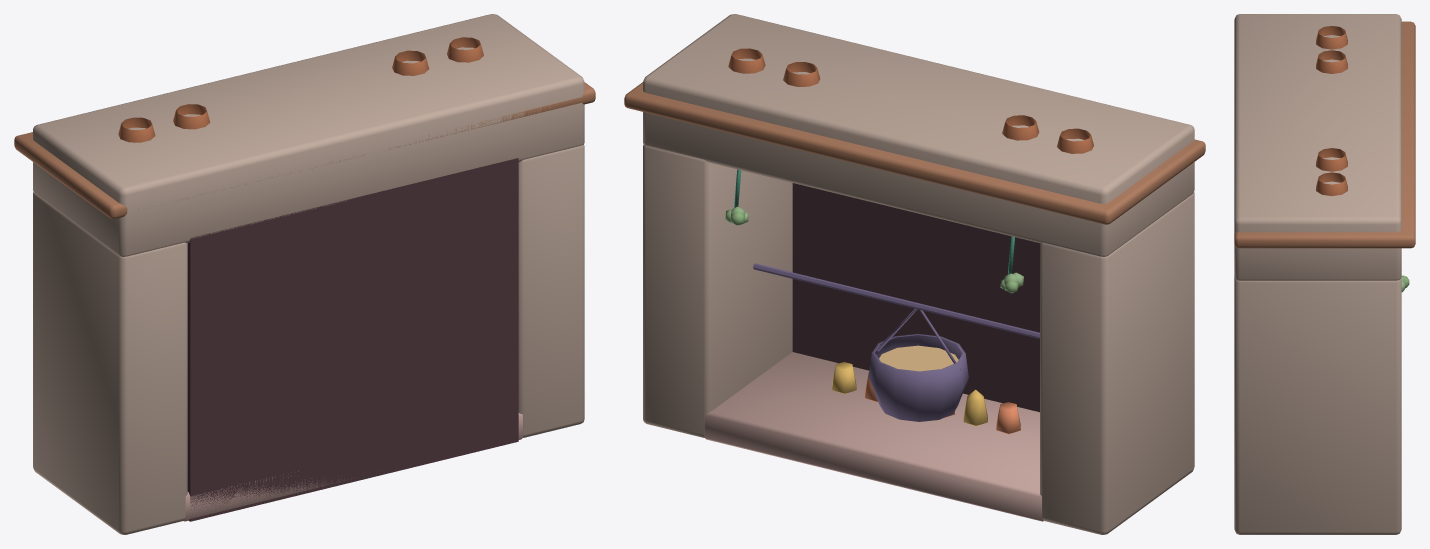
Rendered from hearth_kitchen.glb.
The picture shows the model from 3 angles, left to right: view 1: azimuth 30°, elevation 25°; view 2: azimuth 150°, elevation 25°; view 3: azimuth 270°, elevation 25°; orthographic projection. The views are drawn at different scales.
Visible parts, largest first — view 1: hearth_kitchen; view 2: hearth_kitchen; view 3: hearth_kitchen.
Part boxes in pixels (x1=…): hearth_kitchen: x1=14, y1=14, x2=595, y2=534; hearth_kitchen: x1=624, y1=14, x2=1205, y2=534; hearth_kitchen: x1=1234, y1=14, x2=1415, y2=534.
Size of what is drawn, in the model's own units: 3.4 by 2.4 by 1.2.
